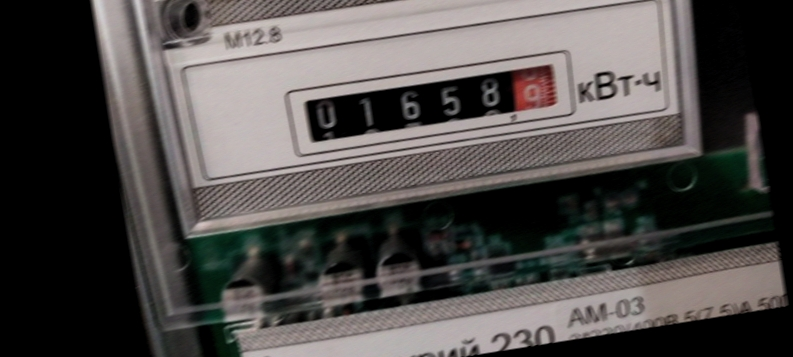0: (314, 99, 338, 132)
1: (357, 96, 378, 130)
5: (438, 85, 464, 119)
6: (398, 88, 423, 124)
8: (478, 76, 503, 110)
9: (520, 83, 545, 114)
screen: (275, 40, 584, 168)
